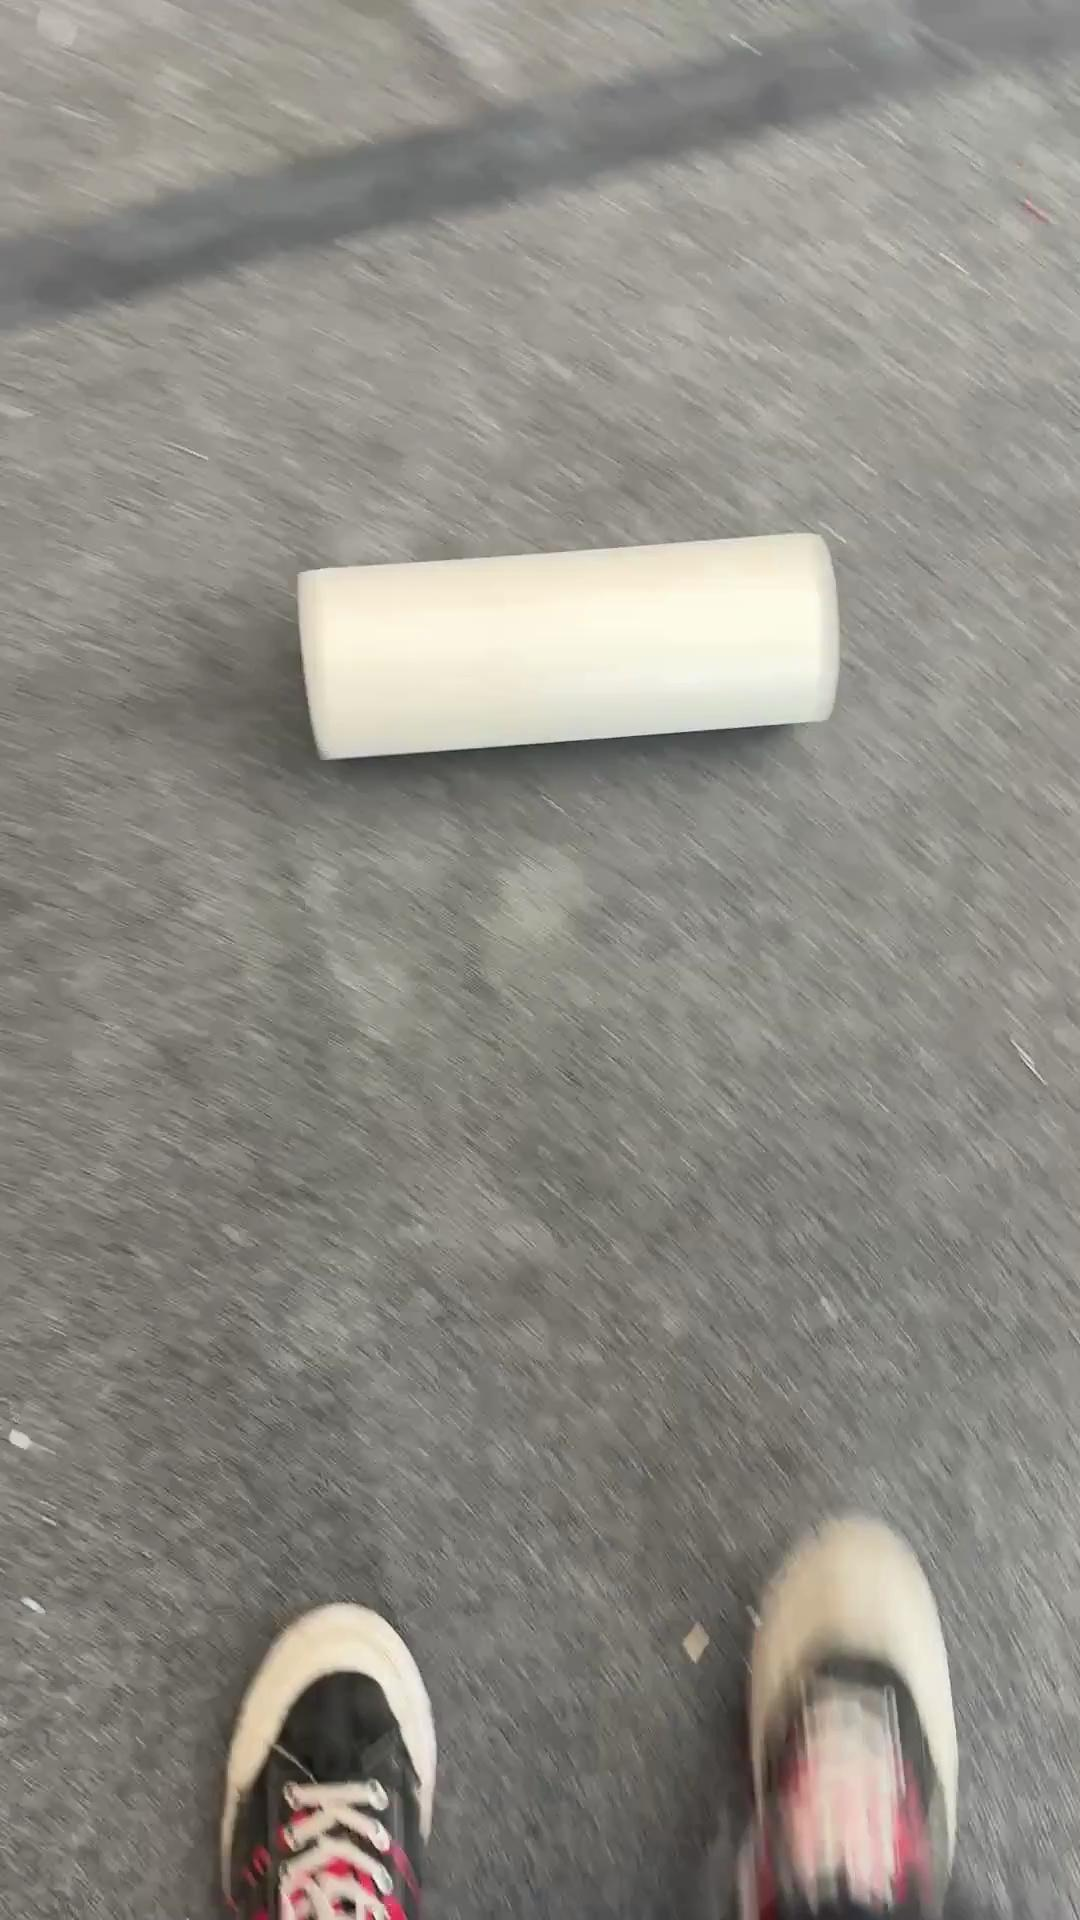CORAL: (294, 527, 841, 762)
